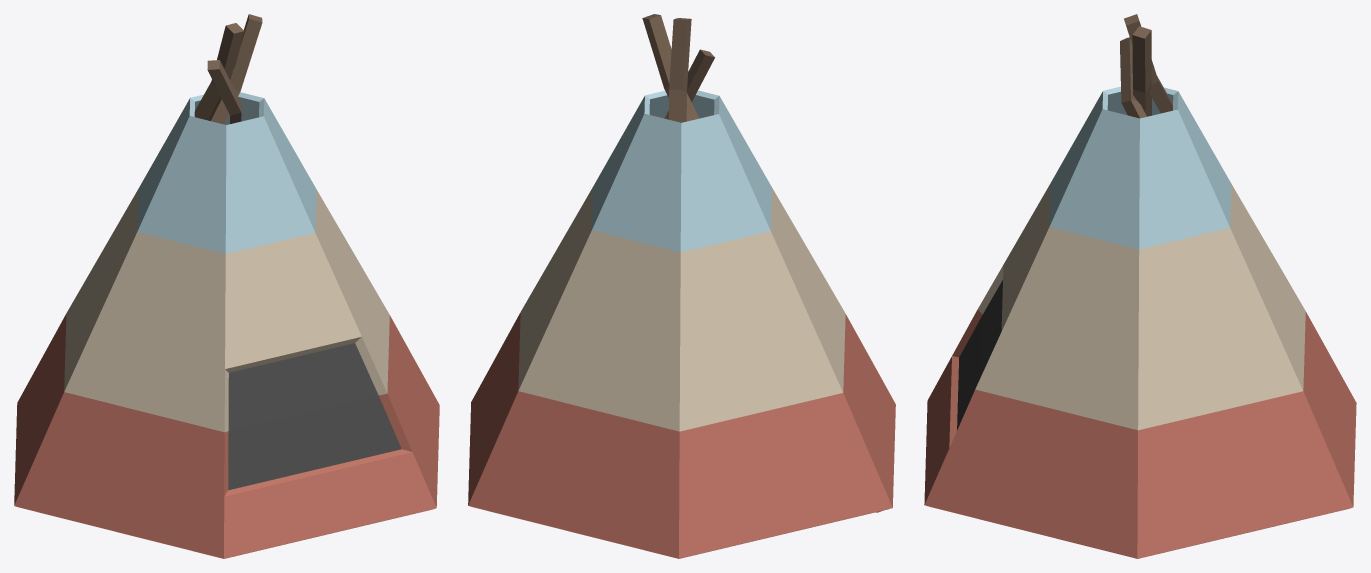
File: Vigvam_2.fbx
The picture shows the model from 3 angles, left to right: view 1: azimuth 30°, elevation 25°; view 2: azimuth 150°, elevation 25°; view 3: azimuth 270°, elevation 25°; orthographic projection.
Visible parts, largest first — view 1: Vigvam_2; view 2: Vigvam_2; view 3: Vigvam_2.
Part boxes in pixels (box(x1,y1,x2,y2)): Vigvam_2: box(14, 14, 439, 558); Vigvam_2: box(468, 14, 895, 558); Vigvam_2: box(924, 14, 1356, 558).
Bounding box in the file's own units: 349 × 304 × 346.
